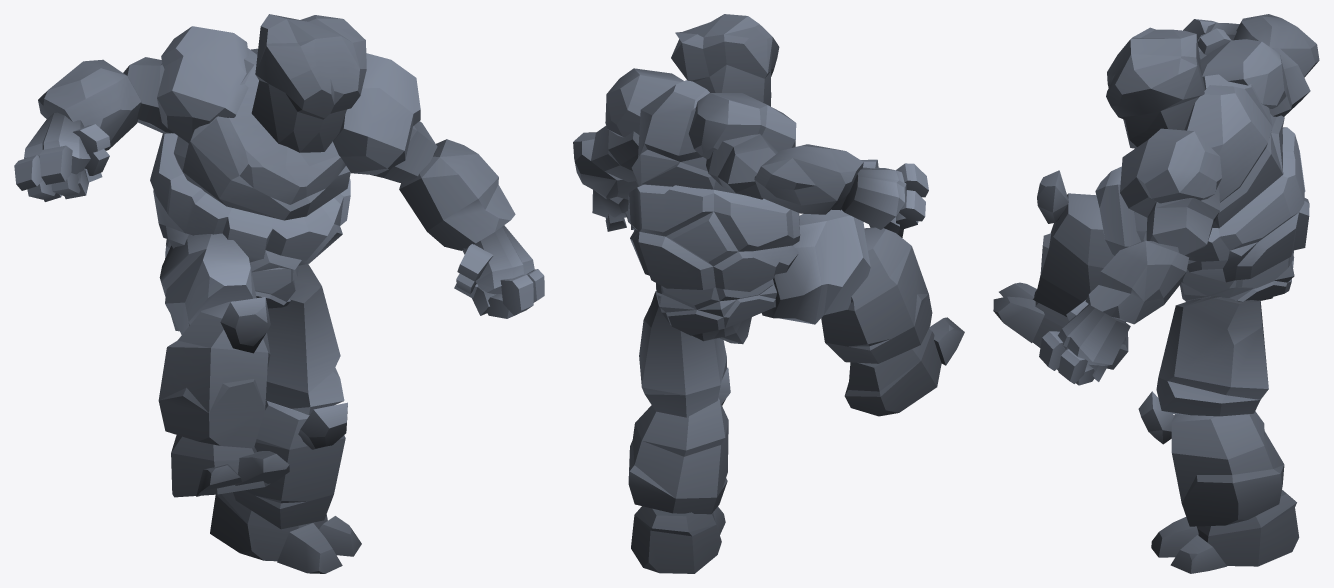
Rendered from pk-polysplit-creatures-golem.glb.
The picture shows the model from 3 angles, left to right: view 1: azimuth 30°, elevation 25°; view 2: azimuth 150°, elevation 25°; view 3: azimuth 270°, elevation 25°; orthographic projection. The views are drawn at different scales.
Visible parts, largest first — view 1: Golem_prePosed; view 2: Golem_prePosed; view 3: Golem_prePosed.
Part boxes in pixels (x1,y1,x2,y2): Golem_prePosed: [14, 14, 544, 573]; Golem_prePosed: [573, 14, 964, 573]; Golem_prePosed: [993, 14, 1319, 573].
Bounding box in the file's own units: 1.7 × 2.01 × 1.18.
1 material, 1 textured.
